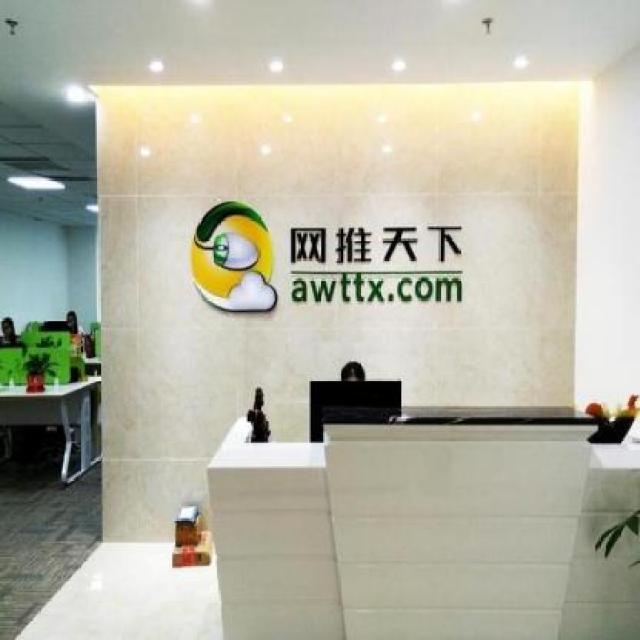frontdesk: (198, 406, 640, 640)
